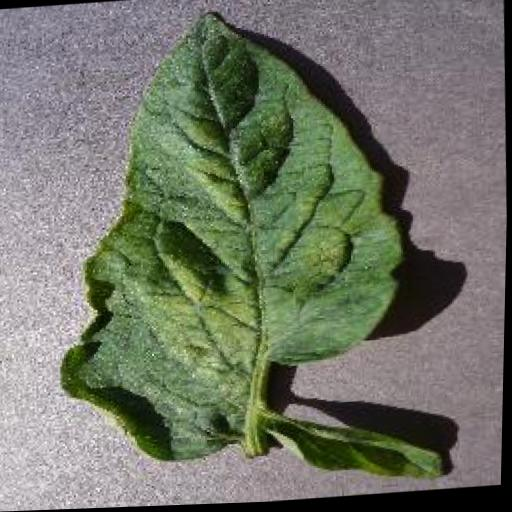Spider Mites: (47, 0, 415, 466)
